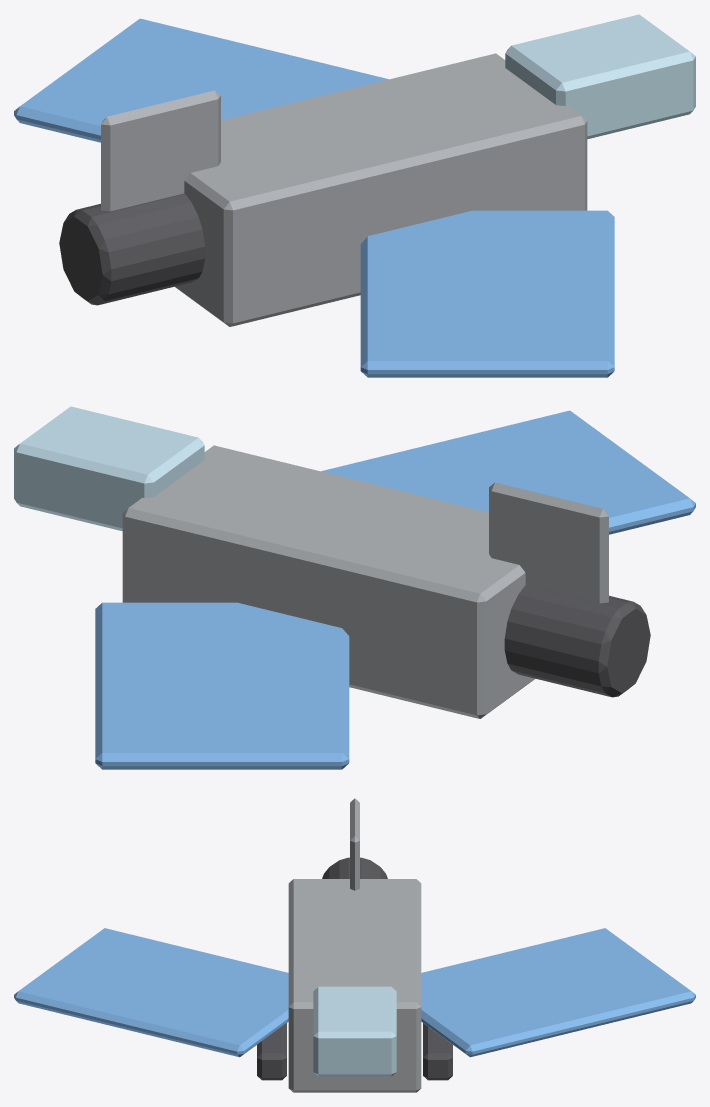
The model's file is talon.glb.
3 renders of one model, top to bottom at view 1: azimuth 30°, elevation 25°; view 2: azimuth 150°, elevation 25°; view 3: azimuth 270°, elevation 25°, orthographic. The views are drawn at different scales.
Parts seen in each view (by area): view 1: talon; view 2: talon; view 3: talon.
Boxes of the visible parts, x1,y1,x2,y2 form: talon: (14,14,695,377); talon: (14,406,695,769); talon: (14,798,695,1092).
Size of the model in its own units: 2.95 by 1.04 by 4.11.
